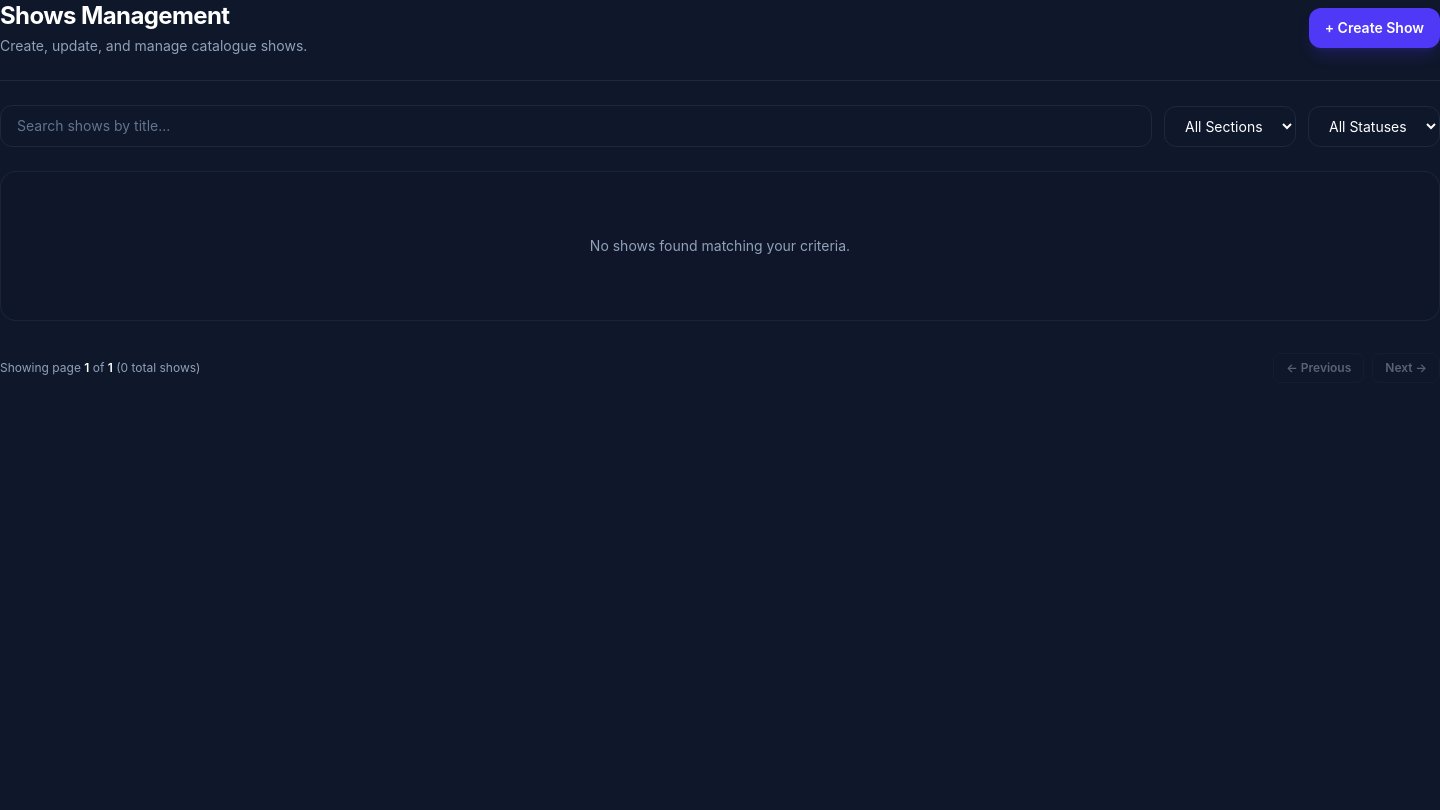
Test case: Shows Management Page › creates a new show successfully
Expected: the element with test id "shows-empty" is shown, [0, 171, 1439, 321]
Click the button with test id "create-show-btn": point(1374, 28) [1309, 8, 1439, 48]
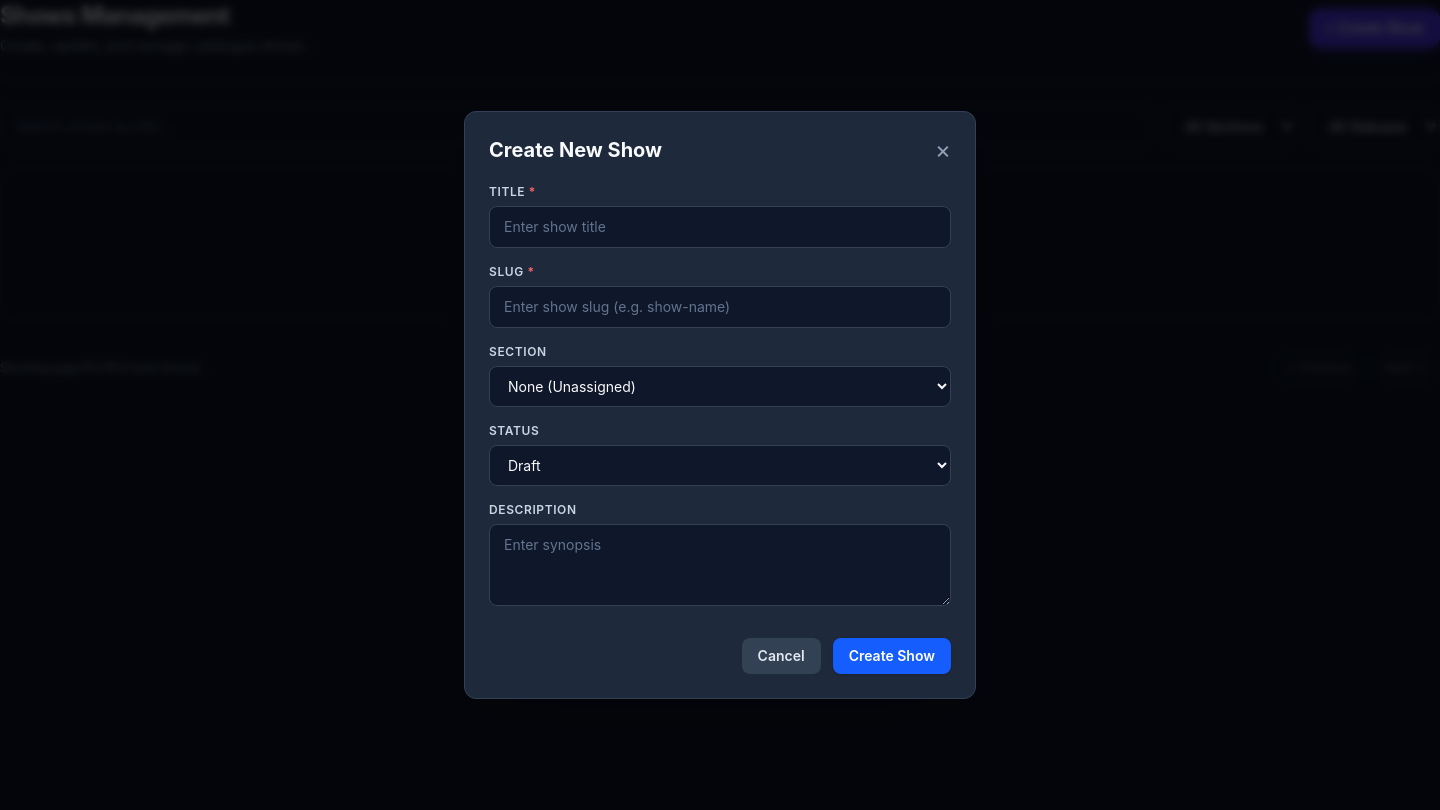
In the field labelled "Title *": point(720, 227) [489, 206, 951, 248], type "New Galactic Show"
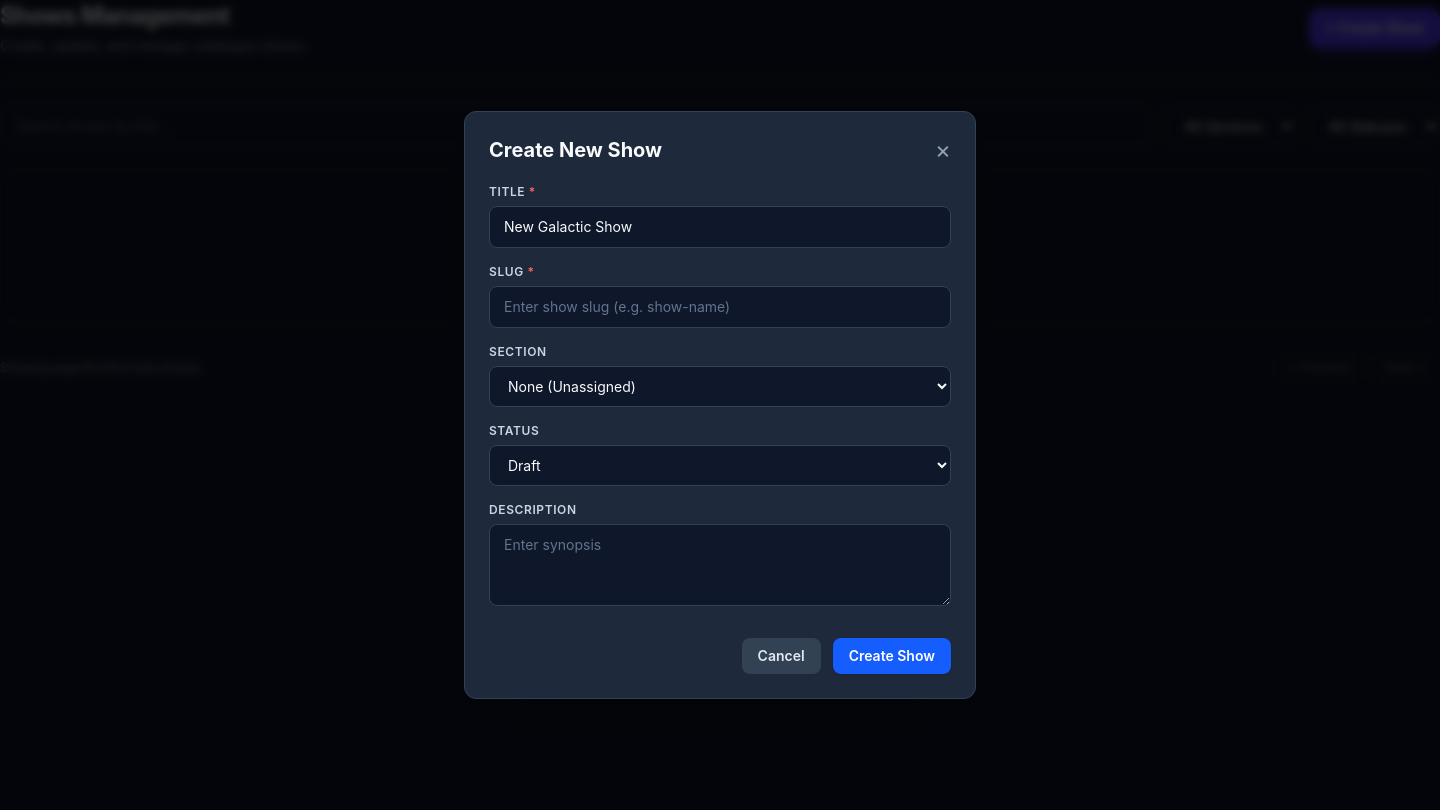
In the field labelled "Slug *": point(720, 307) [489, 286, 951, 328], type "new-galactic-show"
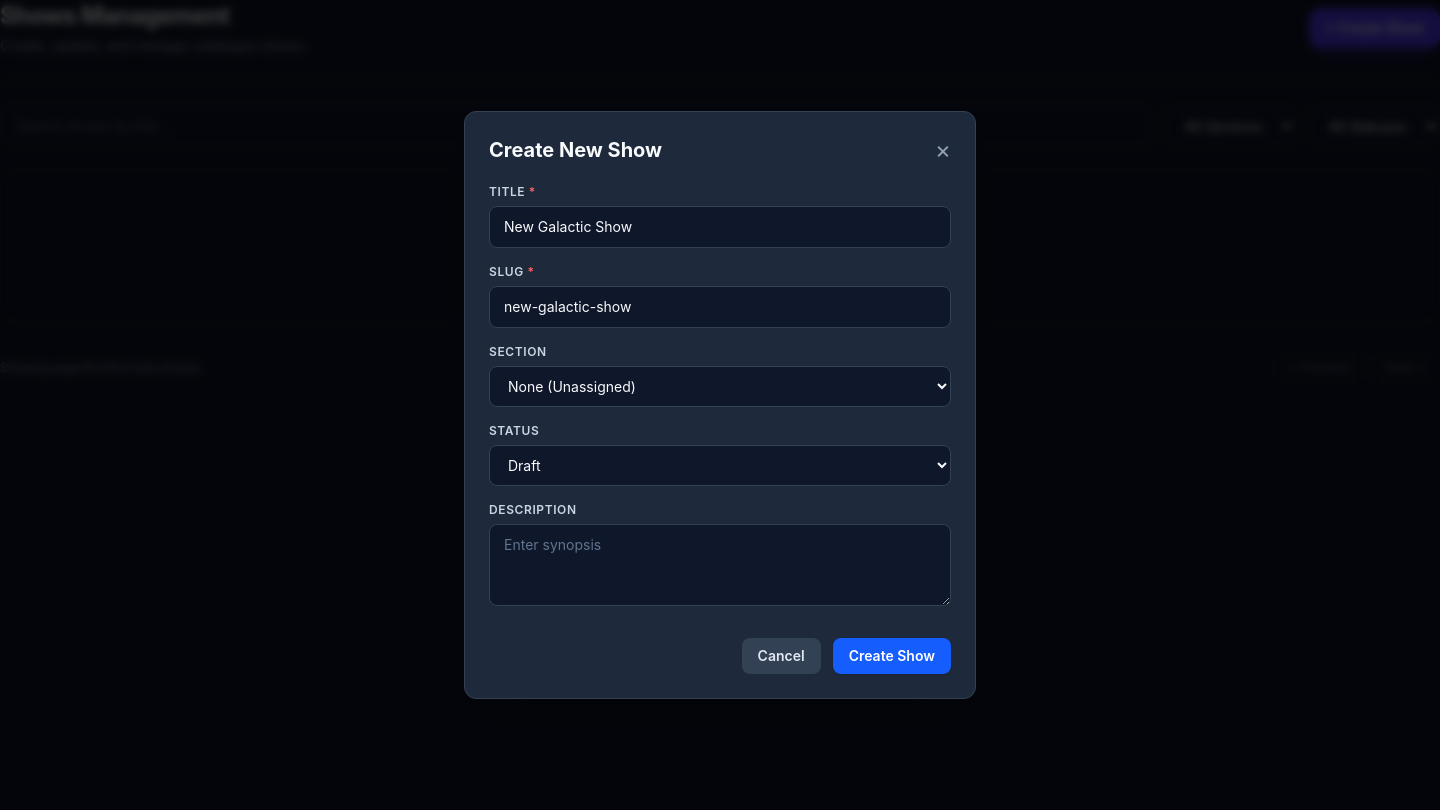
Click the button with test id "save-show-btn": point(892, 656) [833, 638, 951, 674]
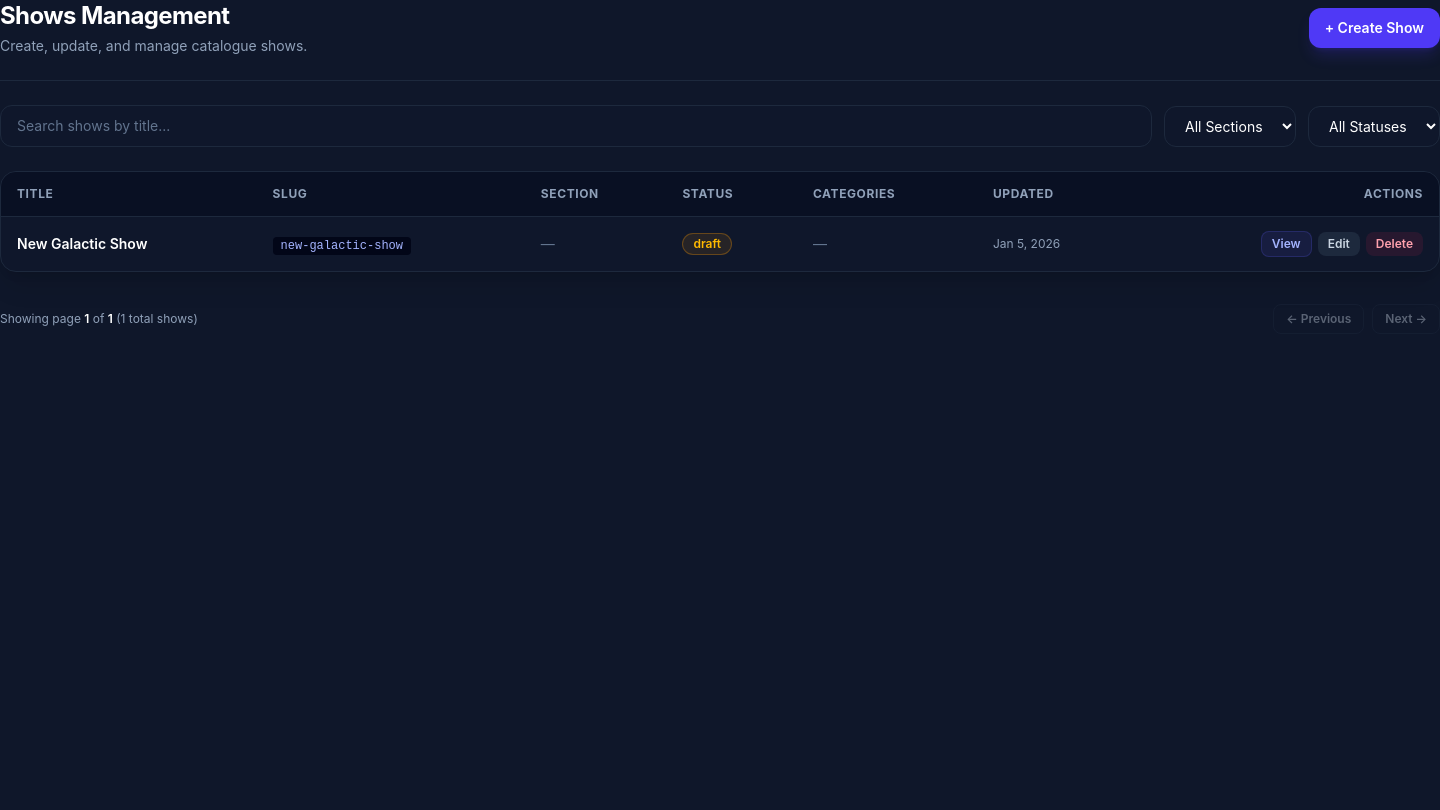
Expected: the link "New Galactic Show" is shown, [17, 235, 147, 252]
